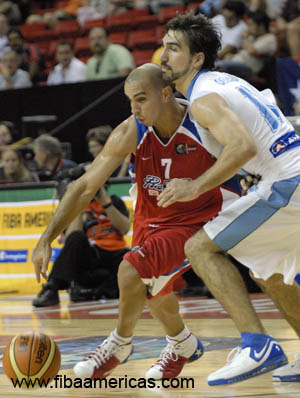basketball: (3, 330, 61, 388)
